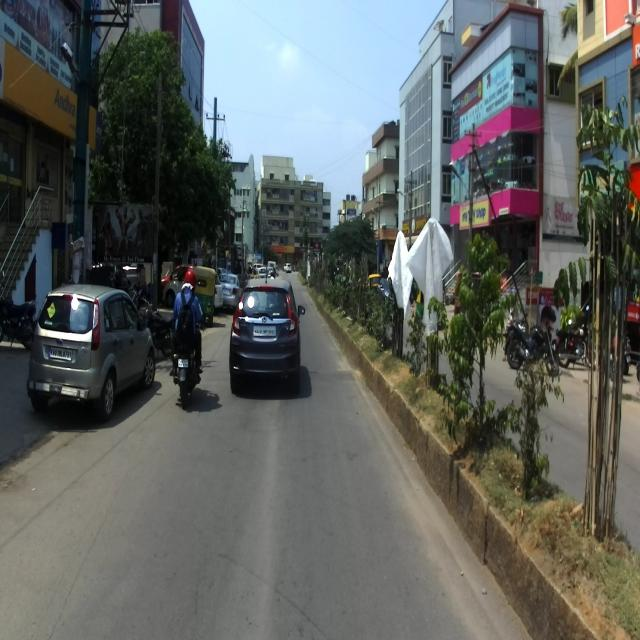car: (26, 282, 156, 420), (228, 267, 306, 395)
motorcycle: (502, 311, 560, 376), (174, 316, 206, 412), (555, 305, 595, 369)
